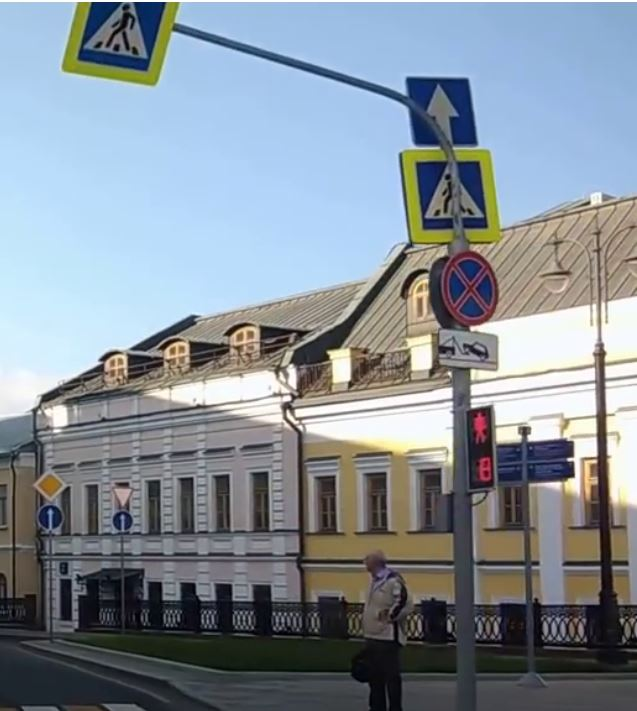Yaya Gecidi: (83, 1, 165, 78)
